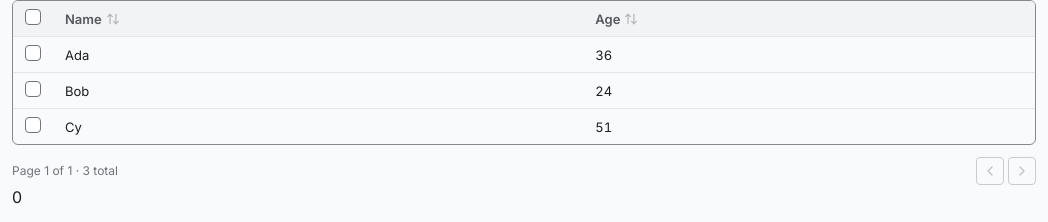
Scenario: DataTable — selection › toggling a row checkbox updates the caller-owned selection
Click the checkbox named "Select row a": (33, 53) 25,45 -> 41,61
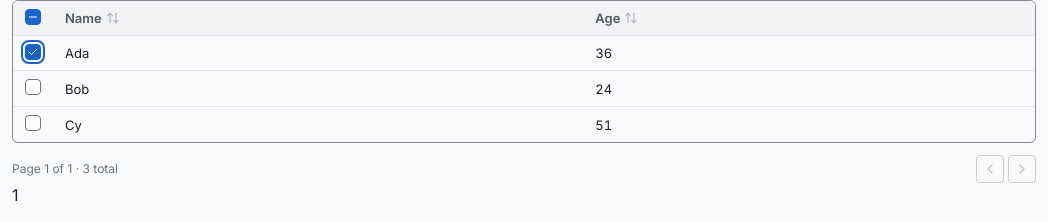
Result: the text with test id "selected-count" reads "1" at 12,185 -> 18,205
